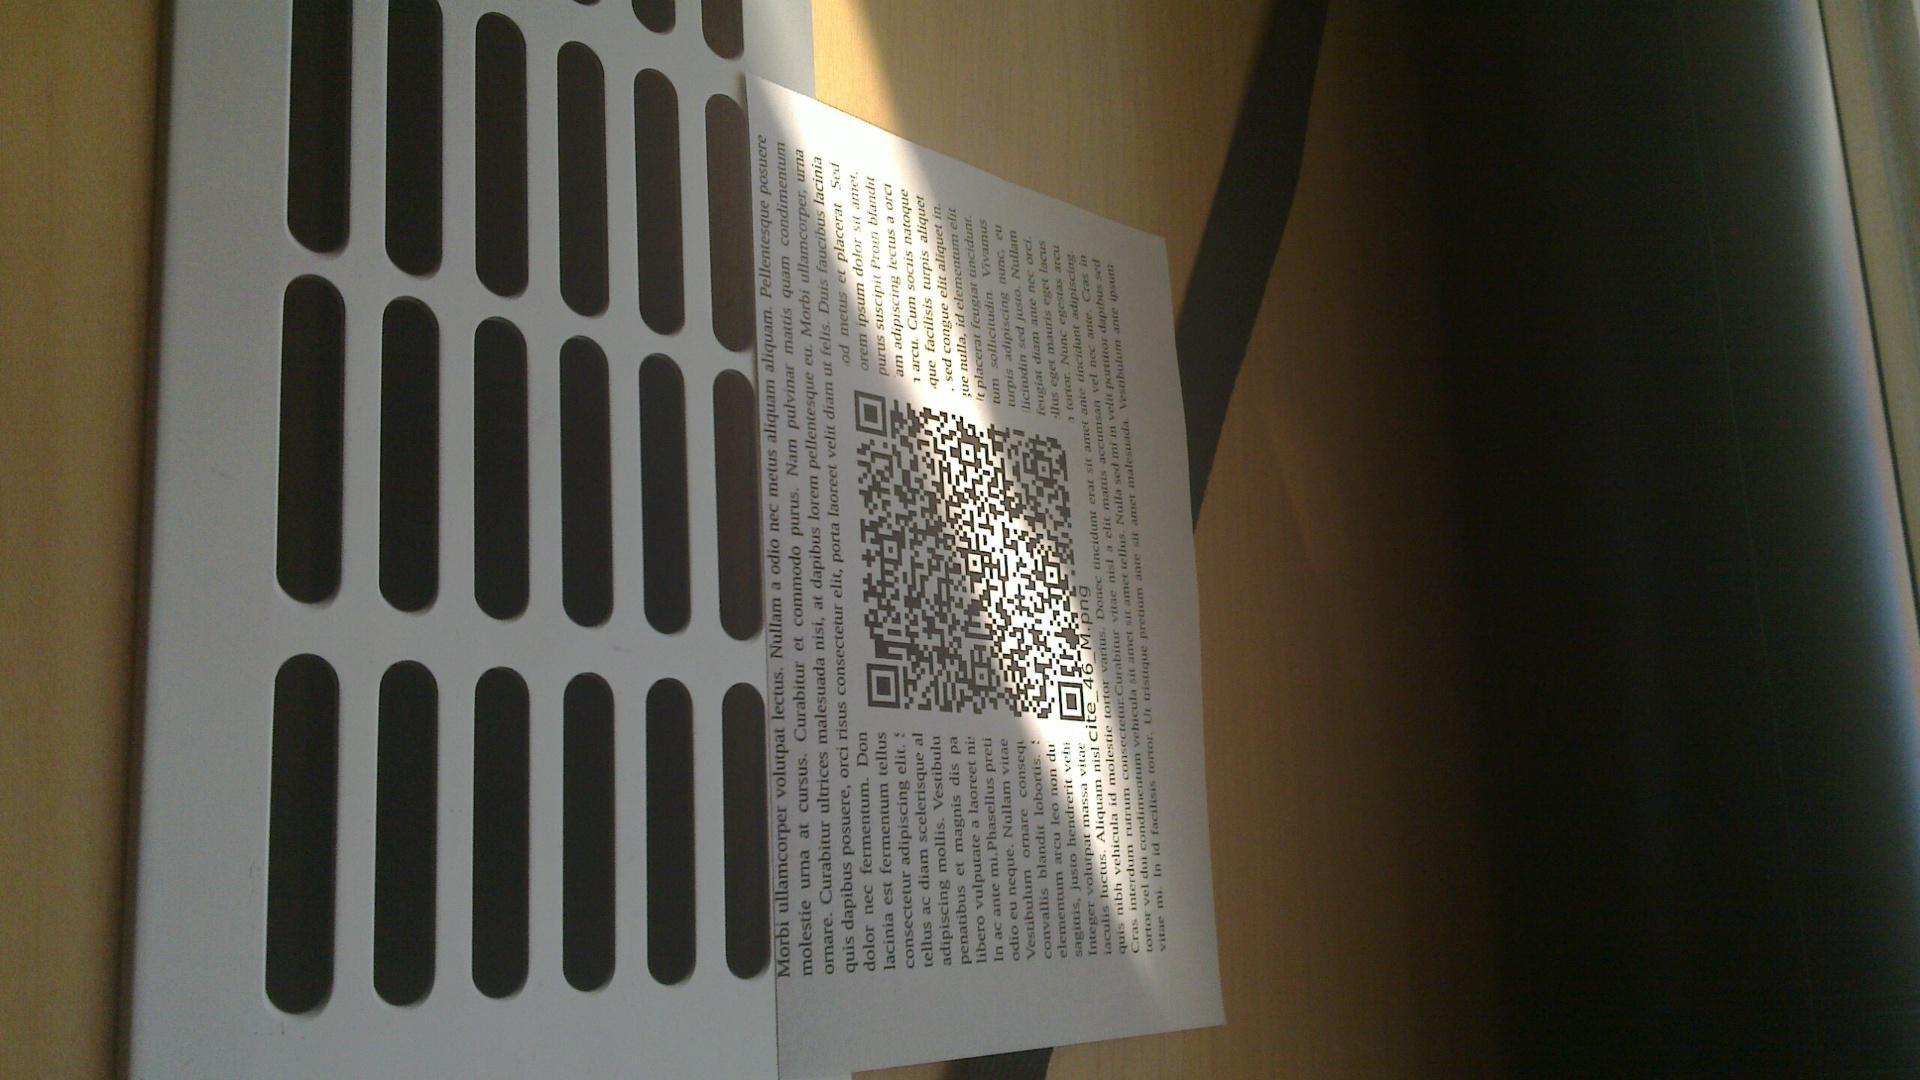Finder pattern: (861, 657, 906, 717), (849, 386, 893, 436), (1050, 676, 1091, 727)
